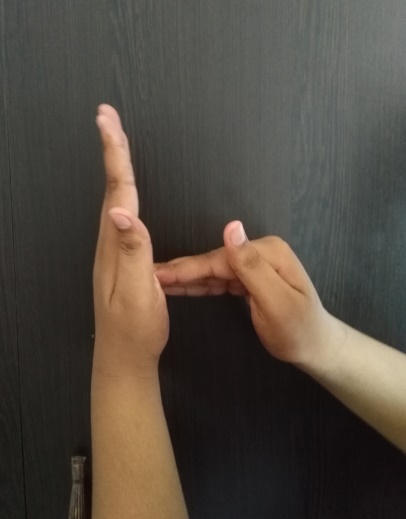ga: (90, 100, 327, 354)
